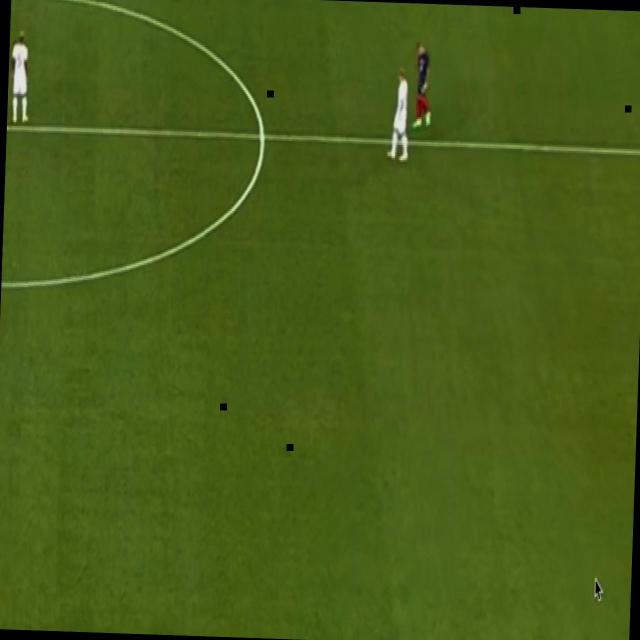player-white: (384, 62, 416, 166), (6, 21, 35, 132), (408, 37, 436, 135)
